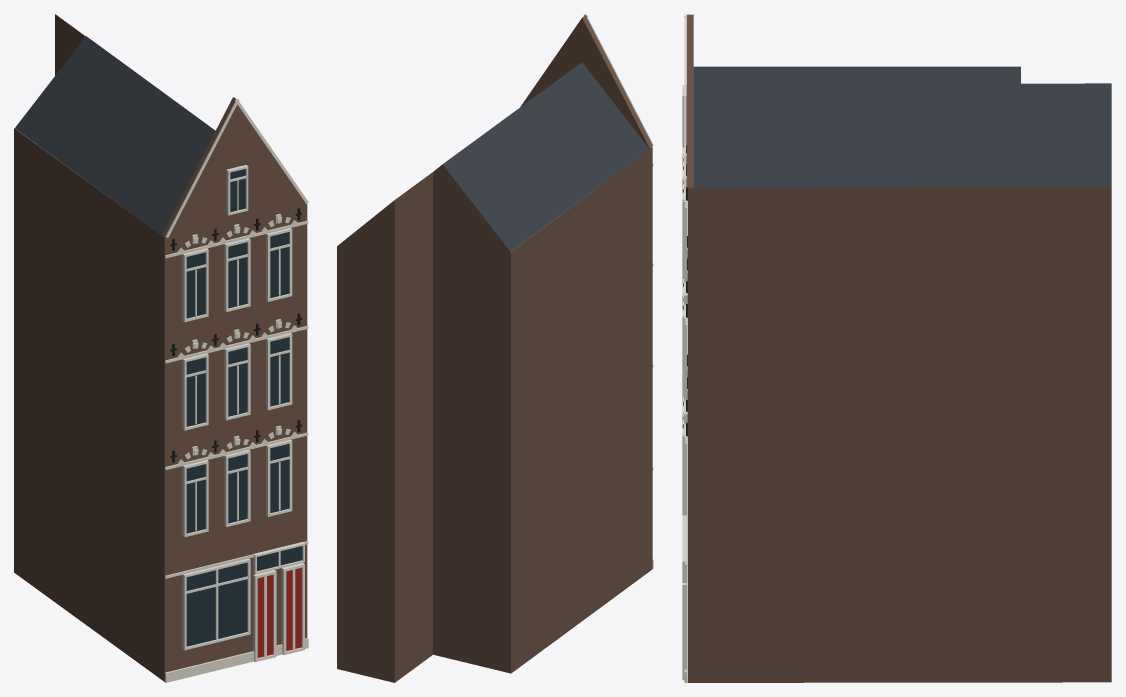
3 renders of one model, left to right at view 1: azimuth 30°, elevation 25°; view 2: azimuth 150°, elevation 25°; view 3: azimuth 270°, elevation 25°, orthographic. The views are drawn at different scales.
Visible parts, largest first — view 1: spec-0363100012155474; view 2: spec-0363100012155474; view 3: spec-0363100012155474.
Boxes of the visible parts, <box> form: spec-0363100012155474: <box>14,14,308,682</box>; spec-0363100012155474: <box>337,14,653,682</box>; spec-0363100012155474: <box>682,14,1111,682</box>.
Bounding box in the file's own units: 4.73 × 17.84 × 11.02.
